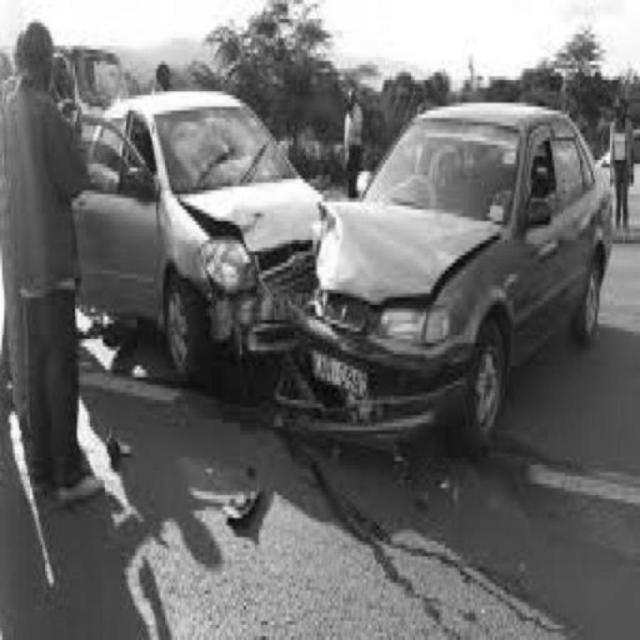accident: (94, 92, 618, 450)
person: (11, 22, 97, 500)
